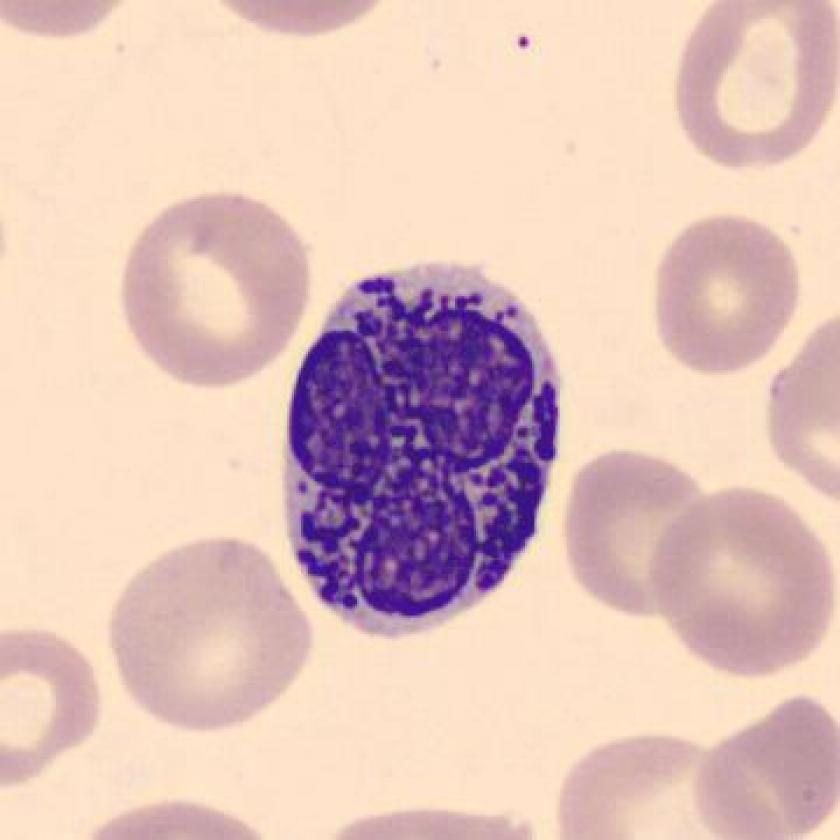basophil: (276, 246, 580, 658)
